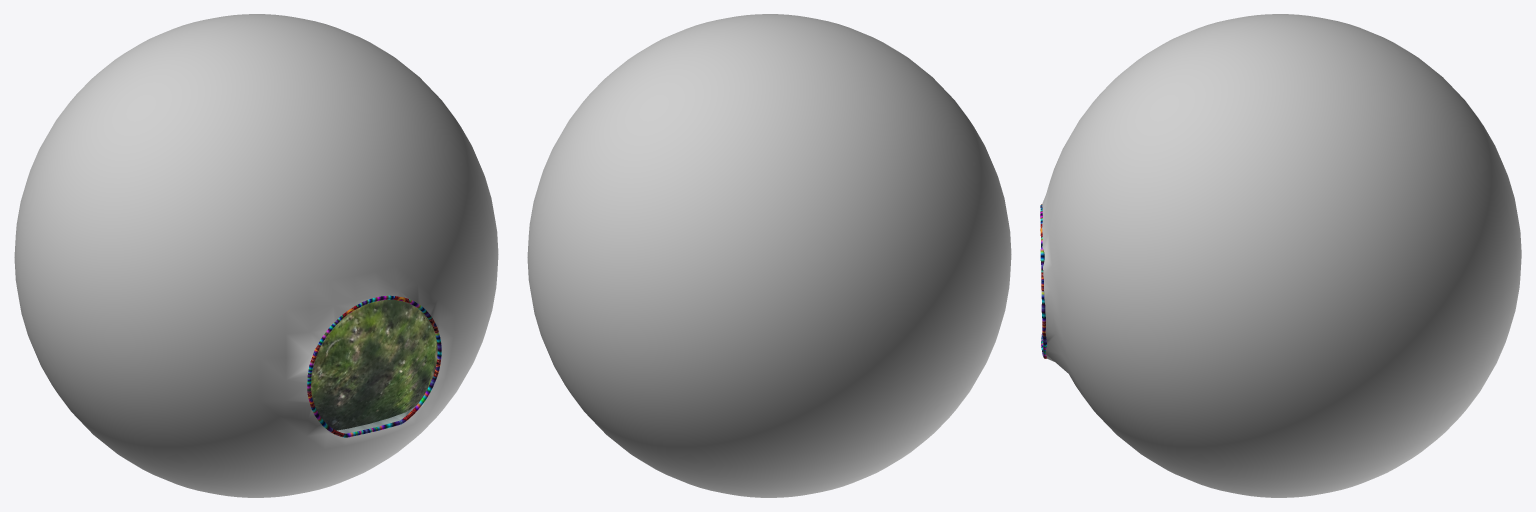
Rendered from portal.gltf.
3 views of the same model, side by side, from view 1: azimuth 30°, elevation 25°; view 2: azimuth 150°, elevation 25°; view 3: azimuth 270°, elevation 25° (orthographic).
Parts seen in each view (by area): view 1: node-0; view 2: node-0; view 3: node-0.
Boxes of the visible parts, x1,y1,x2,y2 form: node-0: (14,14,498,497); node-0: (527,14,1011,497); node-0: (1040,14,1521,497).
Size of the model in its own units: 7.06 by 7.06 by 7.02.
3 materials, 2 textured.
